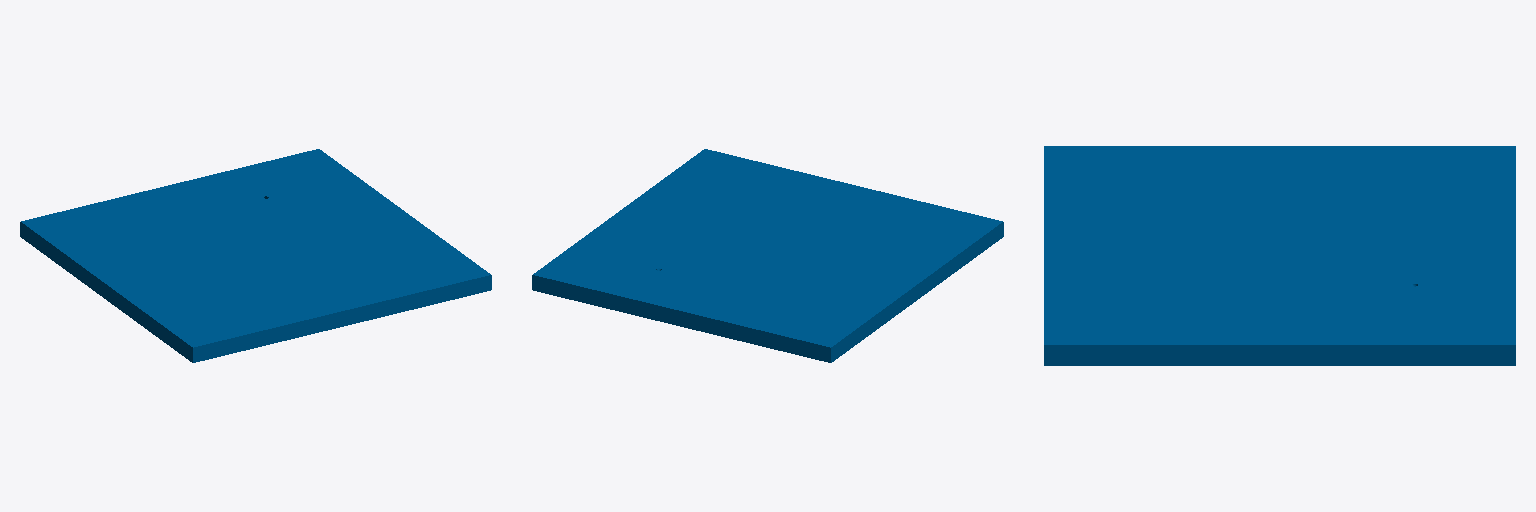
URDF robot description (floor):
<?xml version="1.0" ?>
<!-- =================================================================================== -->
<!-- |    Floor with a small hole -->
<!-- =================================================================================== -->
<robot name="floor" >
  <link name="world"/>
  <joint name="world_joint" type="fixed">
    <parent link="world"/>
    <child link="base_link"/>
    <origin rpy="0.0 0.0 0.0" xyz="0.0 0.0 0.0"/>
  </joint>
  <link name="base_link">
    <visual>
      <geometry>
        <mesh filename="meshes/floor.dae"/>
      </geometry>
    </visual>
    <collision>
      <geometry>
        <mesh filename="meshes/floor.dae"/>
      </geometry>
    </collision>
    <inertial>
      <mass value="4.0"/>
      <origin rpy="0 0 0" xyz="0.0 0.0 0.0"/>
      <inertia ixx="0.00443333156" ixy="0.0" ixz="0.0" iyy="0.00443333156" iyz="0.0" izz="0.0072"/>
    </inertial>
  </link>
</robot>

--- Render facts (derived) ---
The picture shows the robot from 3 angles, left to right: view 1: azimuth 30°, elevation 25°; view 2: azimuth 150°, elevation 25°; view 3: azimuth 270°, elevation 25°; orthographic projection.
Model floor with 2 links and 1 joints (1 fixed), rooted at world, posed all joints at 0.
Visible links, largest first — view 1: base_link; view 2: base_link; view 3: base_link.
Link boxes in pixels (bbox=[...]): base_link: bbox=[20, 149, 491, 362]; base_link: bbox=[532, 149, 1003, 362]; base_link: bbox=[1044, 146, 1515, 365].
Size in the robot's own frame: 1 by 1 by 0.05 metres.
1 mesh visuals loaded from 1 distinct referenced files (1 Collada DAE).